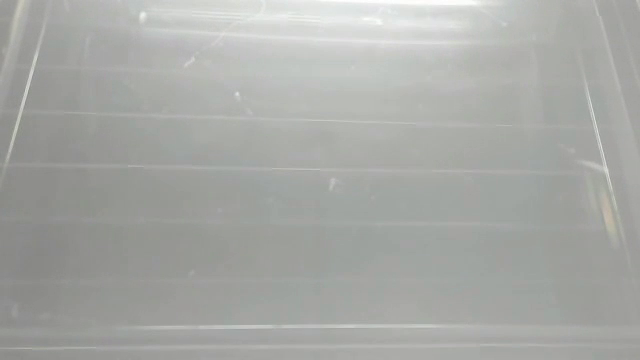alpha: (135, 9, 154, 29)
